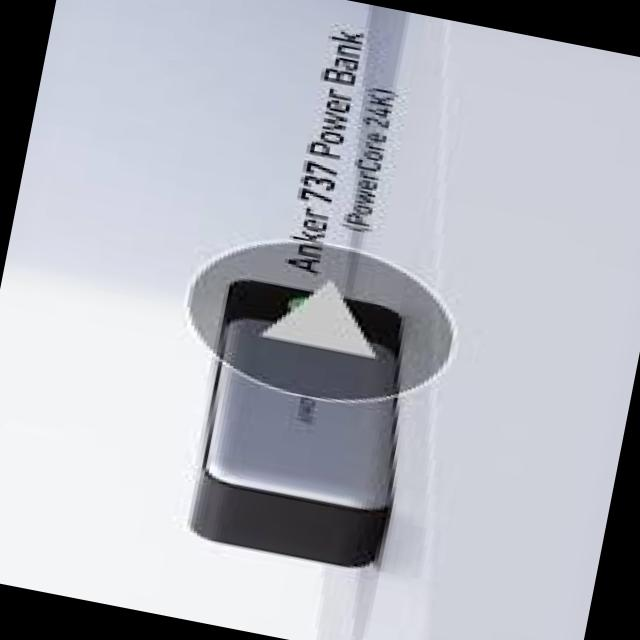portable-charger: (178, 270, 424, 570)
